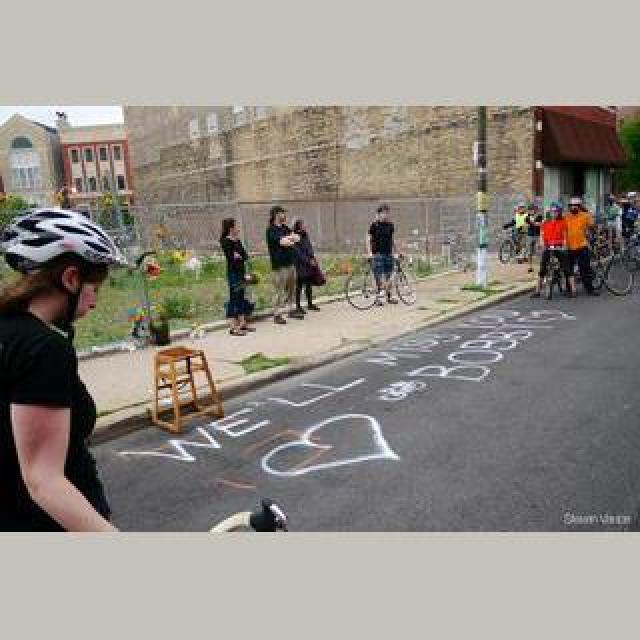MC-Bike: (2, 212, 134, 528), (220, 218, 256, 332), (288, 212, 328, 314), (266, 208, 302, 320), (366, 202, 402, 304), (564, 200, 596, 294), (538, 206, 570, 296), (500, 206, 532, 264)
Person: (344, 250, 418, 310), (498, 228, 532, 264)
